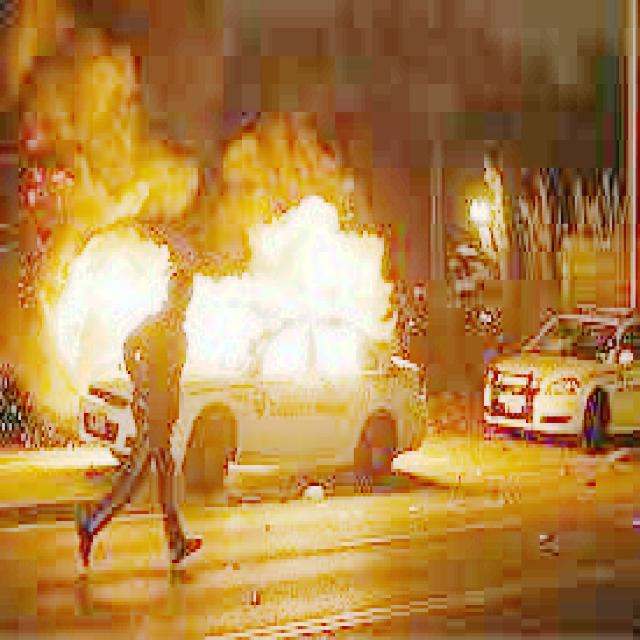api: (59, 186, 408, 400)
